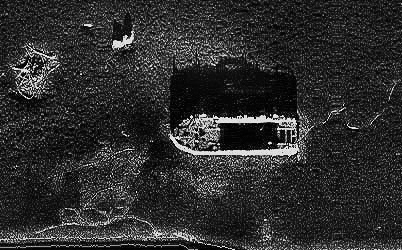ship: (166, 110, 301, 159)
